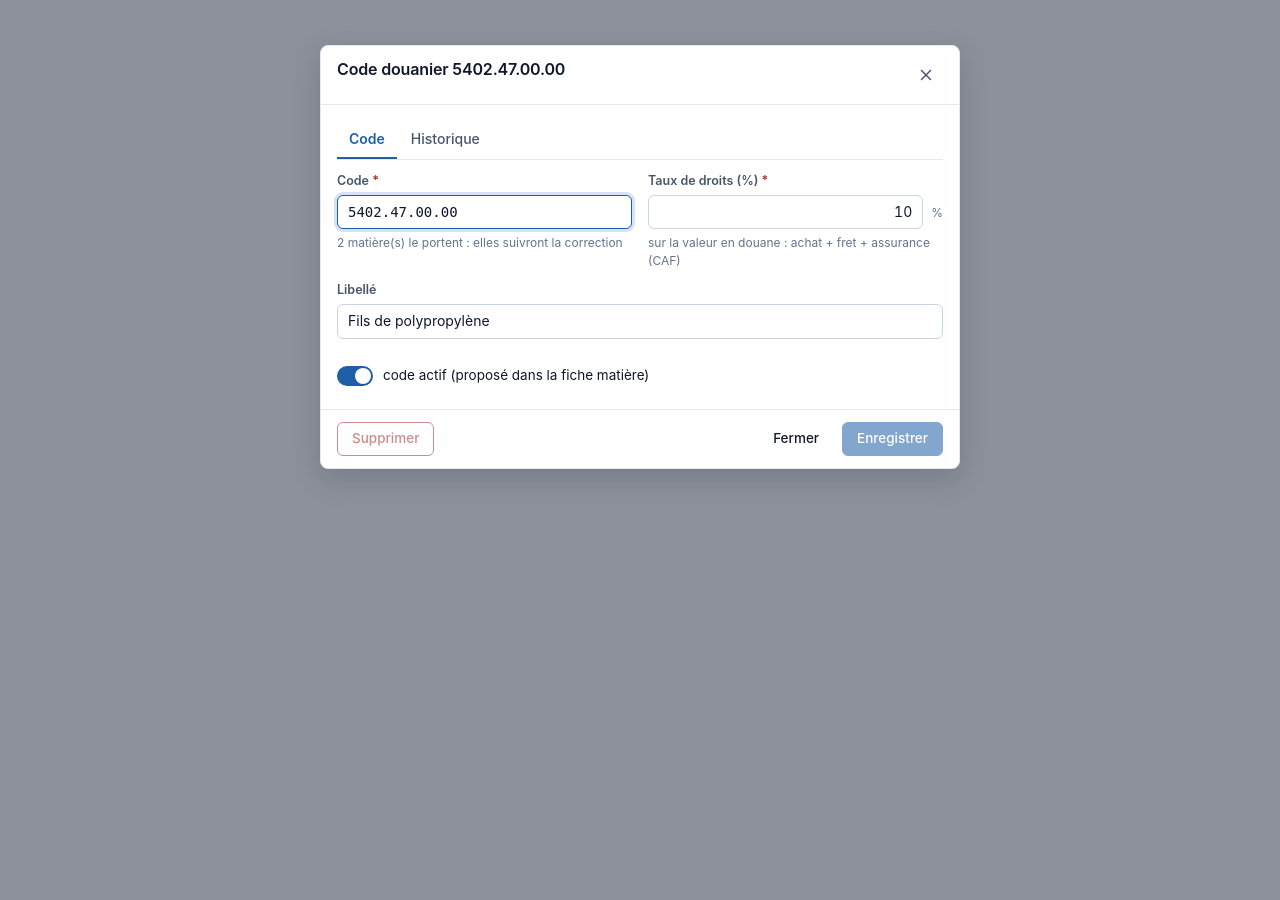
Scenario: Codes douaniers › modifier : PUT avec la version ; supprimer grisé tant que des matières le portent
The image size is (1280, 900).
Replace the text in the field labelled "Taux de droits (%) *" with "12" at (786,212), box [648,195,923,229]
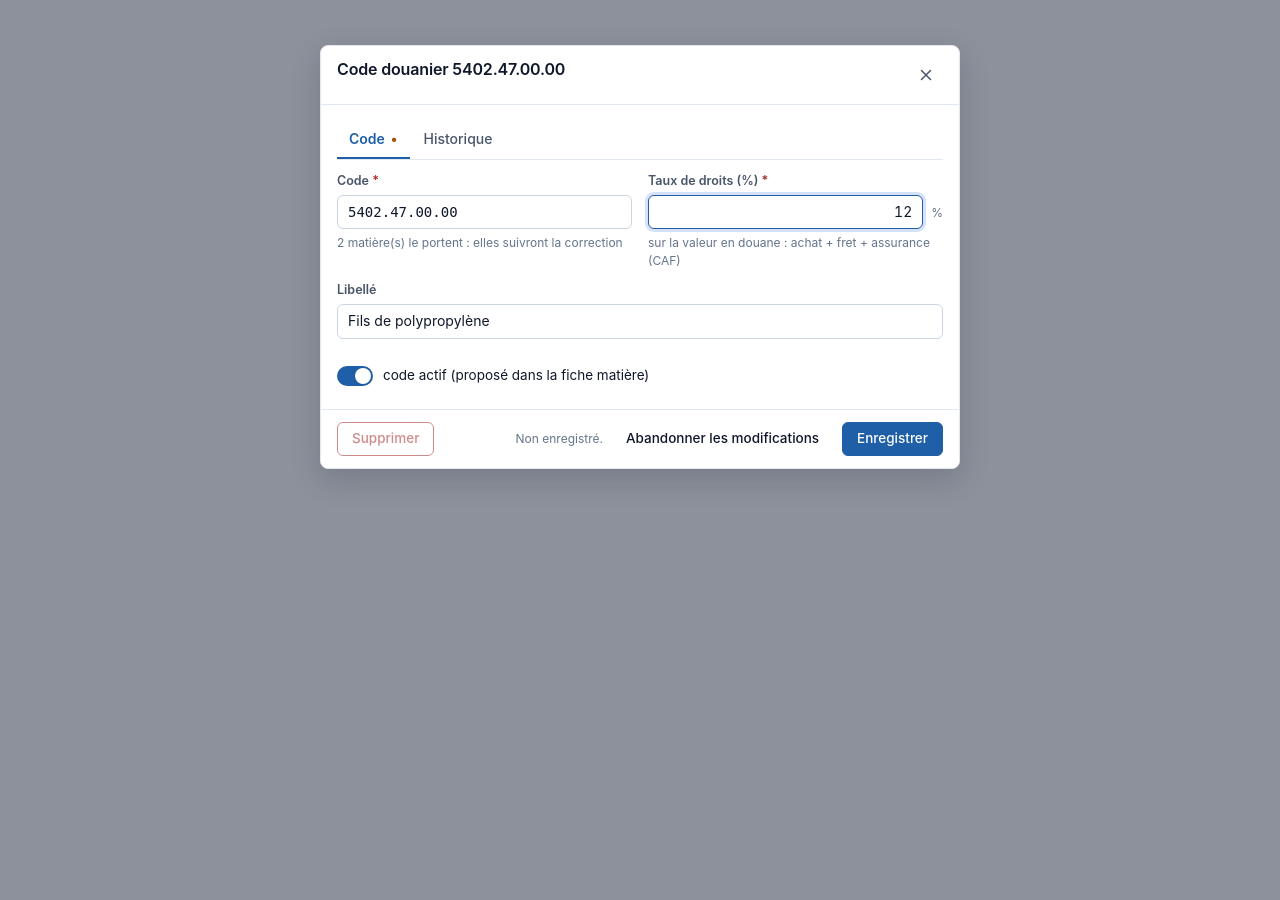
Click the button "Enregistrer".
click(893, 439)  # box [842,422,943,456]
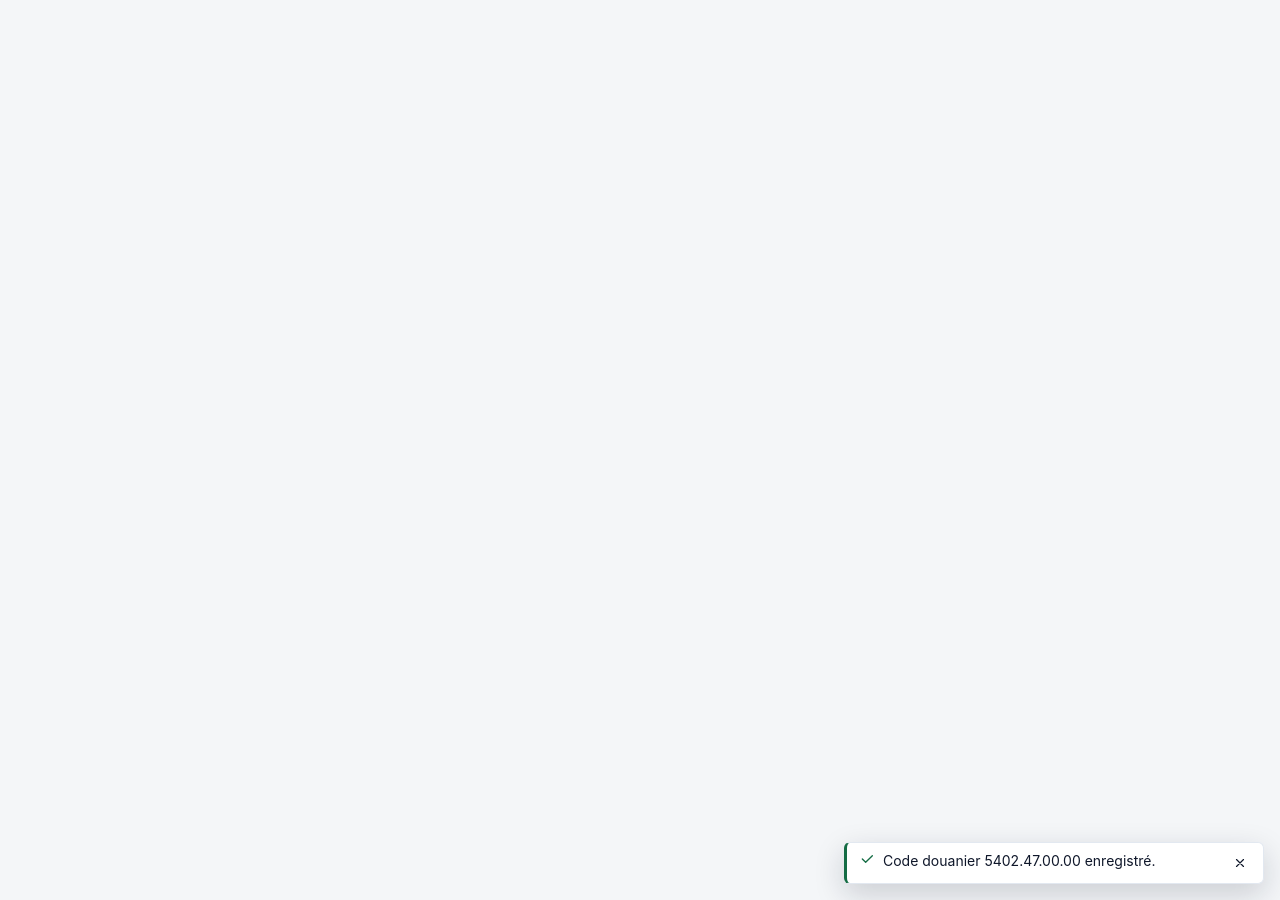
Now the text "Code douanier 5402.47.00.00 enregistré." is shown, box [883,852,1156,869]
